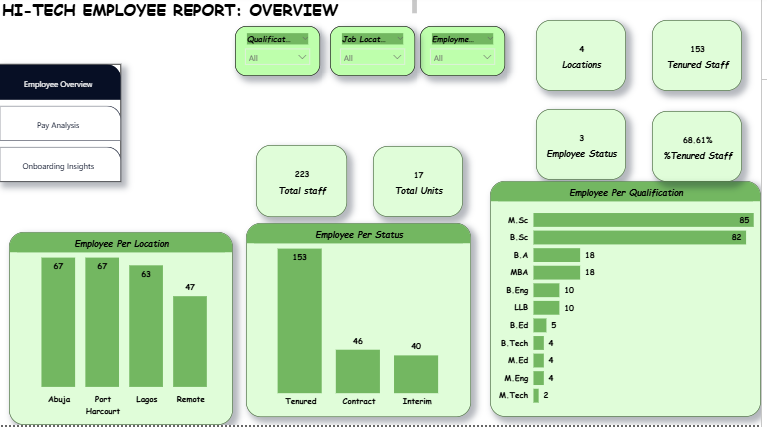

The dashboard page shown, as its layout file describes it:
{"tool":"powerbi","page":{"name":"Employee Overview","canvas":[1280,720],"ordinal":0},"visuals":[{"type":"card","fields":{"Values":["Measures Table (2).Total staff"]},"box":[431.7,250.3,152.9,120.9],"z":0},{"type":"card","fields":{"Values":["Measures Table (2).#Total Units"]},"box":[628.2,252,151.2,119.3],"z":1000},{"type":"card","fields":{"Values":["Measures Table (2).Location"]},"box":[902,40.3,151.2,119.3],"z":2000},{"type":"card","fields":{"Values":["Measures Table (2).Employee Status"]},"box":[902,189.8,151.2,119.3],"z":3000},{"type":"barChart","title":"Employee Per Qualification","fields":{"Category":["Staff.Qualification"],"Y":["Measures Table (2).Total staff"]},"box":[824.8,310.8,455.2,396.4],"z":4000},{"type":"textbox","box":[0,0,707.2,40.3],"z":5000},{"type":"columnChart","title":"Employee Per Location","fields":{"Category":["Staff.Job Location"],"Y":["Measures Table (2).Total staff"]},"box":[16.8,396.4,376.3,324.2],"z":6000},{"type":"columnChart","title":"Employee Per Status","fields":{"Y":["Measures Table (2).Total staff"],"Category":["Staff.Employment Status"]},"box":[414.9,381.3,378,325.9],"z":7000},{"type":"slicer","fields":{"Values":["Staff.Employment Status"]},"box":[707.2,50.4,142.8,84],"z":8000},{"type":"slicer","fields":{"Values":["Staff.Job Location"]},"box":[556,50.4,142.8,84],"z":9000},{"type":"card","fields":{"Values":["Measures Table (2).%Tenured Staff"]},"box":[1096.9,193.2,151.2,119.3],"z":10000},{"type":"card","fields":{"Values":["Measures Table (2).Tenured Staff"]},"box":[1096.9,40.3,151.2,119.3],"z":11000},{"type":"slicer","fields":{"Values":["Staff.Qualification"]},"box":[396.4,50.4,142.8,84],"z":12000},{"type":"pageNavigator","box":[0,114.2,204.9,198.2],"z":13000},{"type":"qnaVisual","box":[779.4,134.4,150,178.1],"z":14000},{"type":"qnaVisual","box":[698.8,114.2,150,198.2],"z":15000},{"type":"qnaVisual","box":[698.8,114.2,150,198.2],"z":16000}]}

Visuals, with their boxes in screenshot pixels (x1, y1, x2, y2), scaled from the page's 1280x720 canvas onto the 767x427 screenshot:
card - Measures Table (2).Total staff: [x1=259, y1=148, x2=350, y2=220]
card - Measures Table (2).#Total Units: [x1=376, y1=149, x2=467, y2=220]
card - Measures Table (2).Location: [x1=540, y1=24, x2=631, y2=95]
card - Measures Table (2).Employee Status: [x1=540, y1=113, x2=631, y2=183]
"Employee Per Qualification" barChart: [x1=494, y1=184, x2=766, y2=419]
textbox: [x1=0, y1=0, x2=424, y2=24]
"Employee Per Location" columnChart: [x1=10, y1=235, x2=236, y2=426]
"Employee Per Status" columnChart: [x1=249, y1=226, x2=475, y2=419]
slicer - Staff.Employment Status: [x1=424, y1=30, x2=509, y2=80]
slicer - Staff.Job Location: [x1=333, y1=30, x2=419, y2=80]
card - Measures Table (2).%Tenured Staff: [x1=657, y1=115, x2=748, y2=185]
card - Measures Table (2).Tenured Staff: [x1=657, y1=24, x2=748, y2=95]
slicer - Staff.Qualification: [x1=238, y1=30, x2=323, y2=80]
pageNavigator: [x1=0, y1=68, x2=123, y2=185]
qnaVisual: [x1=467, y1=80, x2=557, y2=185]
qnaVisual: [x1=419, y1=68, x2=509, y2=185]
qnaVisual: [x1=419, y1=68, x2=509, y2=185]
